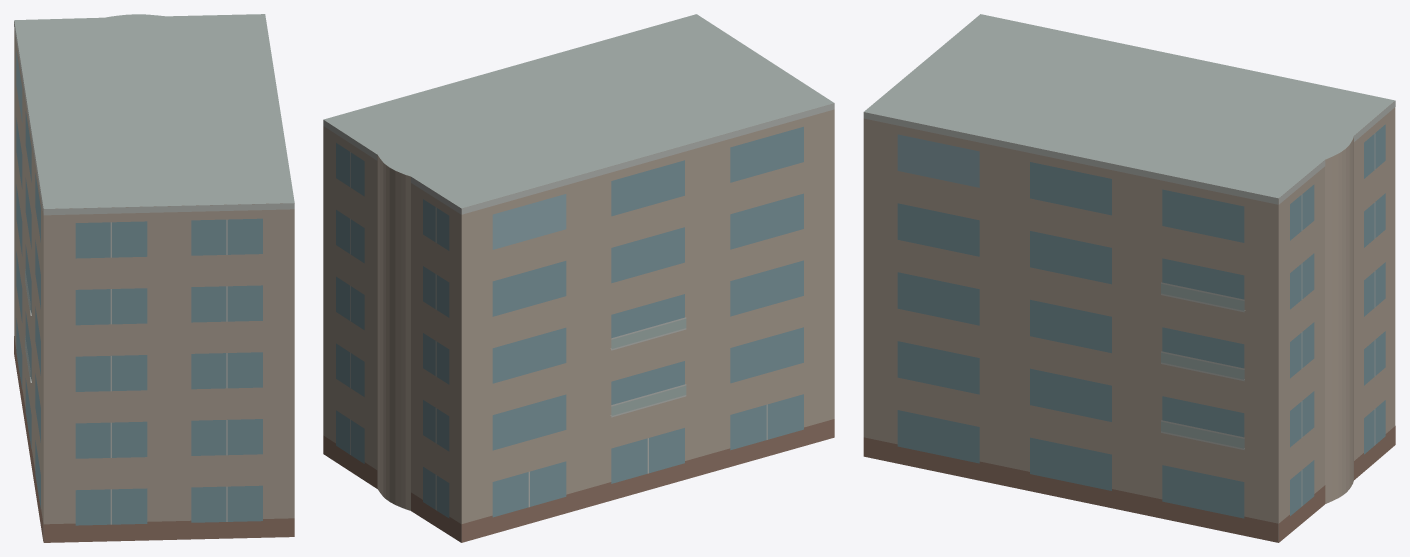
File: survey-upis-32889593.glb
The picture shows the model from 3 angles, left to right: view 1: azimuth 30°, elevation 25°; view 2: azimuth 150°, elevation 25°; view 3: azimuth 270°, elevation 25°; orthographic projection. The views are drawn at different scales.
Visible parts, largest first — view 1: survey-upis-32889593.tmp; view 2: survey-upis-32889593.tmp; view 3: survey-upis-32889593.tmp.
Boxes of the visible parts, box(x1,y1,x2,y2) form: survey-upis-32889593.tmp: box(14, 14, 294, 542); survey-upis-32889593.tmp: box(323, 14, 834, 542); survey-upis-32889593.tmp: box(863, 14, 1395, 542).
Size of the model in its own units: 14.93 by 13 by 18.2.
